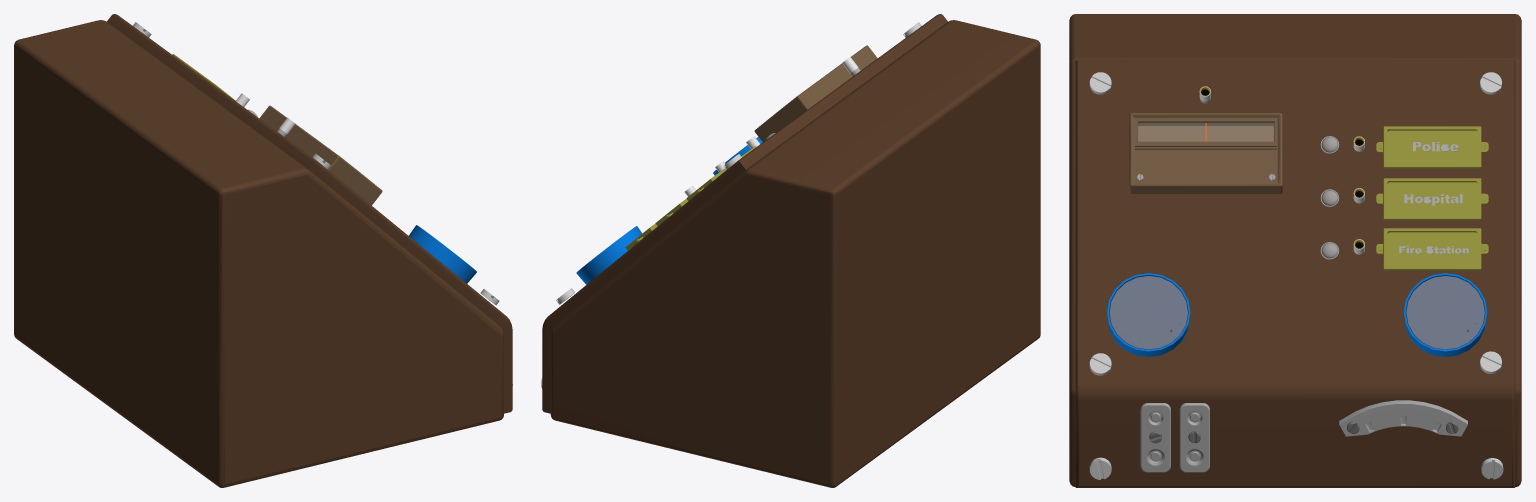
Rendered from switchboard03.fbx.
The picture shows the model from 3 angles, left to right: view 1: azimuth 30°, elevation 25°; view 2: azimuth 150°, elevation 25°; view 3: azimuth 270°, elevation 25°; orthographic projection. The views are drawn at different scales.
Visible parts, largest first — view 1: polySurface29, pCube1, pCylinder74; view 2: polySurface29, pCube1, pCylinder75; view 3: polySurface29, pCube1, pCylinder76, pCylinder71, pasted__pCylinder13, pasted__pCylinder11, pasted__pCylinder12, polySurface19, pCube2, polySurface22, polySurface23, pCylinder75 (+1 smaller).
Boxes of the visible parts, x1=… form: polySurface29: x1=14, y1=14, x2=512, y2=487; pCube1: x1=259, y1=105, x2=382, y2=205; pCylinder74: x1=409, y1=225, x2=476, y2=283; polySurface29: x1=542, y1=14, x2=1040, y2=487; pCube1: x1=754, y1=45, x2=877, y2=141; pCylinder75: x1=576, y1=226, x2=642, y2=284; polySurface29: x1=1069, y1=14, x2=1521, y2=487; pCube1: x1=1129, y1=113, x2=1282, y2=193; pCylinder76: x1=1406, y1=276, x2=1484, y2=349; pCylinder71: x1=1109, y1=276, x2=1187, y2=349; pasted__pCylinder13: x1=1376, y1=228, x2=1488, y2=270; pasted__pCylinder11: x1=1376, y1=126, x2=1488, y2=168; pasted__pCylinder12: x1=1376, y1=178, x2=1488, y2=220; polySurface19: x1=1339, y1=400, x2=1467, y2=436; pCube2: x1=1138, y1=123, x2=1273, y2=141; polySurface22: x1=1140, y1=403, x2=1170, y2=472; polySurface23: x1=1179, y1=403, x2=1209, y2=472; pCylinder75: x1=1403, y1=273, x2=1487, y2=357.
Size of the model in its own units: 19.79 by 18.7 by 23.27.
